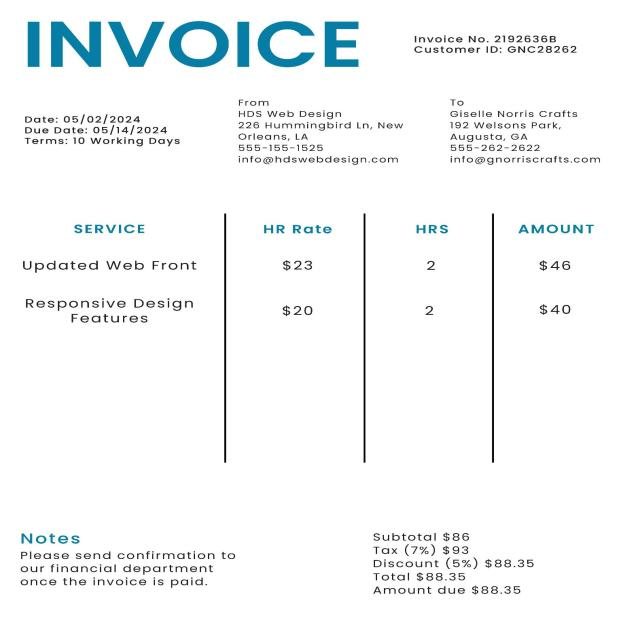paragraph: (23, 19, 368, 76), (21, 532, 241, 596), (235, 97, 410, 172), (367, 532, 540, 604), (442, 96, 610, 168), (20, 109, 186, 156), (412, 35, 586, 60)
table: (12, 214, 613, 345)
